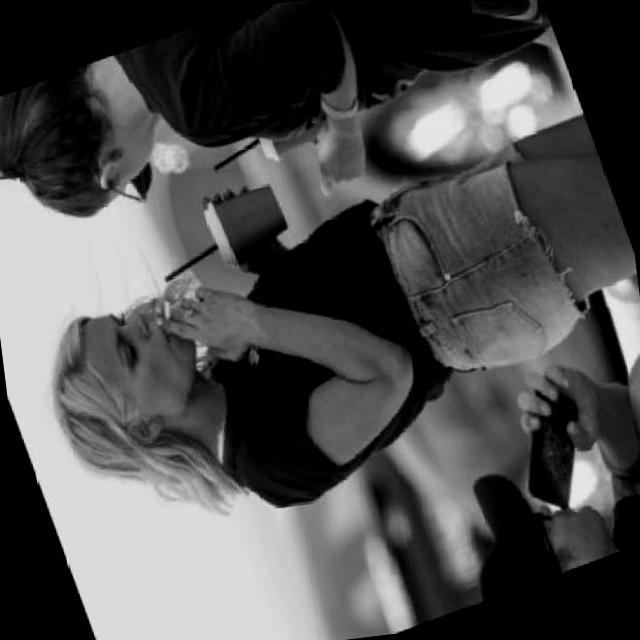cigarette: (154, 293, 184, 336)
